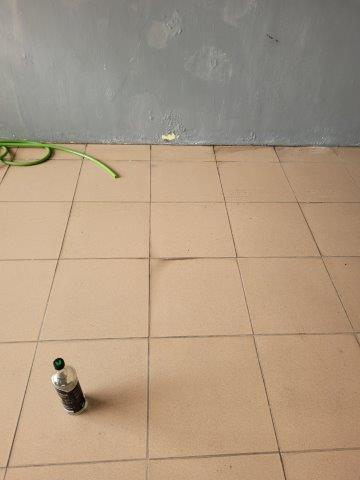botolkaca: (52, 358, 88, 413)
